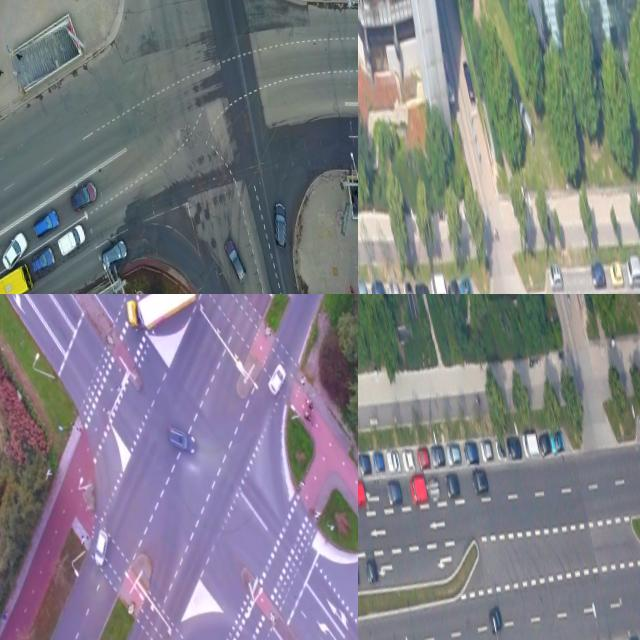UAI: (0, 229, 31, 273), (164, 419, 198, 458), (268, 202, 294, 251), (222, 237, 248, 285), (65, 178, 100, 213), (54, 223, 90, 257), (30, 205, 63, 241), (26, 245, 58, 279), (516, 97, 537, 147), (264, 360, 290, 396), (90, 528, 114, 567), (99, 239, 130, 269), (409, 474, 429, 505), (462, 61, 476, 104), (623, 253, 640, 288), (470, 467, 489, 495), (607, 258, 624, 288), (547, 262, 564, 292), (522, 431, 540, 459), (589, 259, 606, 288), (487, 605, 504, 634), (385, 480, 403, 506), (444, 472, 461, 498), (463, 441, 480, 467), (428, 272, 448, 294), (549, 429, 566, 453), (427, 476, 441, 504), (365, 559, 380, 585), (506, 436, 522, 460), (386, 449, 402, 473), (537, 432, 552, 456), (445, 444, 461, 466), (431, 444, 446, 467), (368, 276, 387, 294), (479, 439, 493, 462), (402, 449, 416, 472), (372, 450, 386, 473), (358, 452, 372, 475), (416, 449, 431, 470), (457, 276, 474, 294), (494, 438, 506, 460), (358, 479, 367, 508), (414, 280, 432, 294), (447, 278, 461, 294), (401, 279, 415, 294), (387, 281, 402, 294), (358, 278, 369, 294)
UAP: (121, 294, 202, 334)
car: (0, 262, 40, 294)
